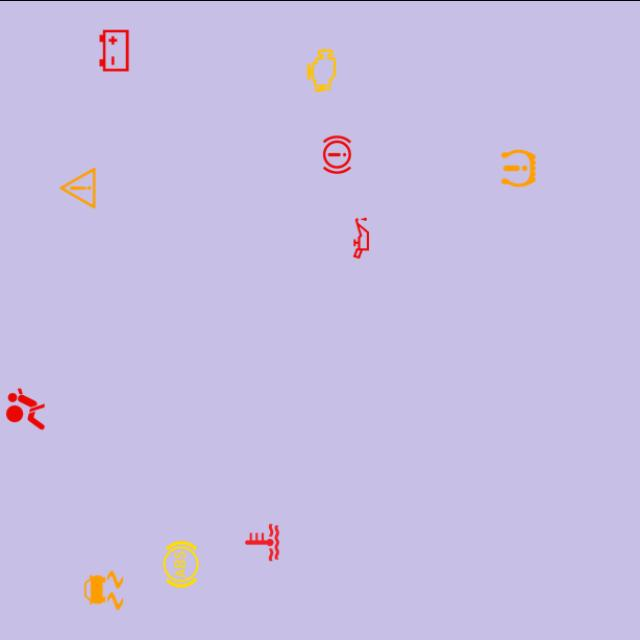Anti Lock Braking System: (156, 538, 207, 589)
Braking System Issue: (312, 128, 362, 179)
Charging System Issue: (89, 24, 140, 75)
Check Engine: (296, 44, 347, 95)
Electronic Stability Problem -ESP-: (78, 564, 129, 615)
Engine Overheating Warning Light: (236, 516, 288, 567)
Low Engine Oil Warning Light: (336, 212, 386, 262)
Low Tire Pressure Warning Light: (493, 142, 544, 193)
Master warning light: (52, 162, 103, 212)
SRS-Airbag: (0, 382, 51, 433)
